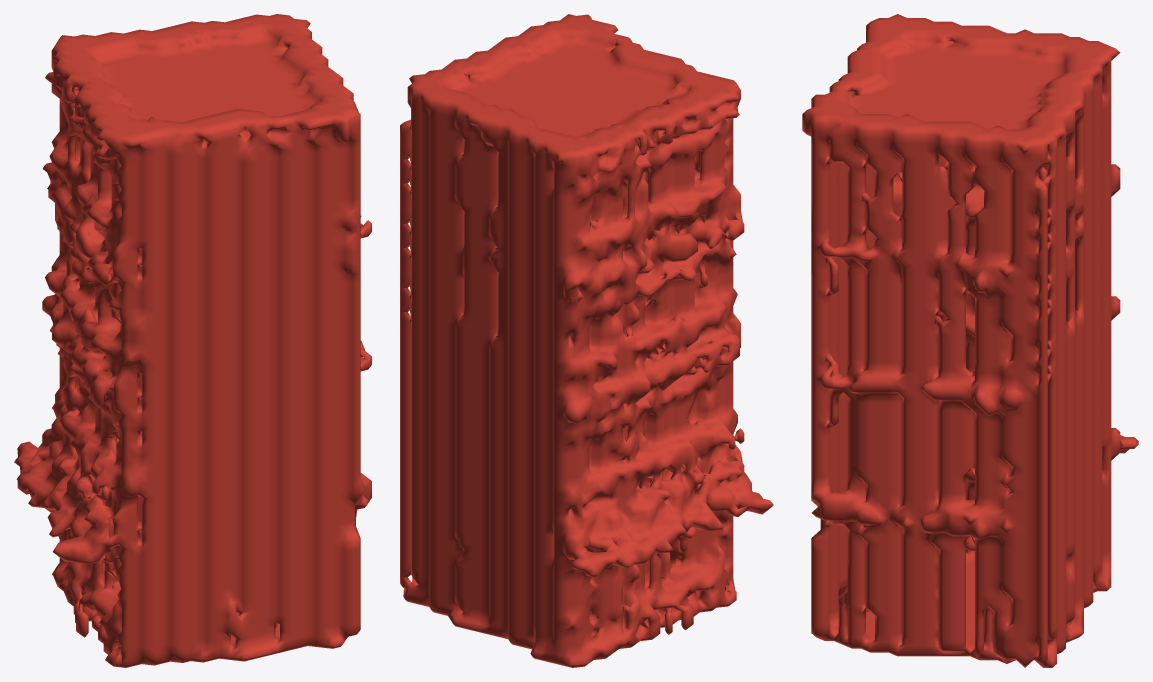
Rendered from gen7_colored.obj.
3 views of the same model, side by side, from view 1: azimuth 30°, elevation 25°; view 2: azimuth 150°, elevation 25°; view 3: azimuth 270°, elevation 25° (orthographic). The views are drawn at different scales.
Parts seen in each view (by area): view 1: gen7.obj; view 2: gen7.obj; view 3: gen7.obj.
Part boxes in pixels (x1,y1,x2,y2): gen7.obj: [14, 14, 371, 667]; gen7.obj: [400, 14, 773, 667]; gen7.obj: [802, 14, 1138, 667].
Bounding box in the file's own units: 40 × 64 × 37.
